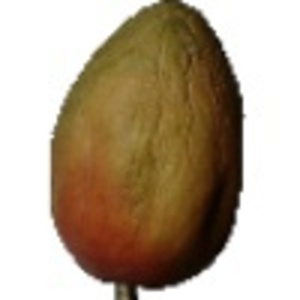mamão: (38, 4, 252, 289)
